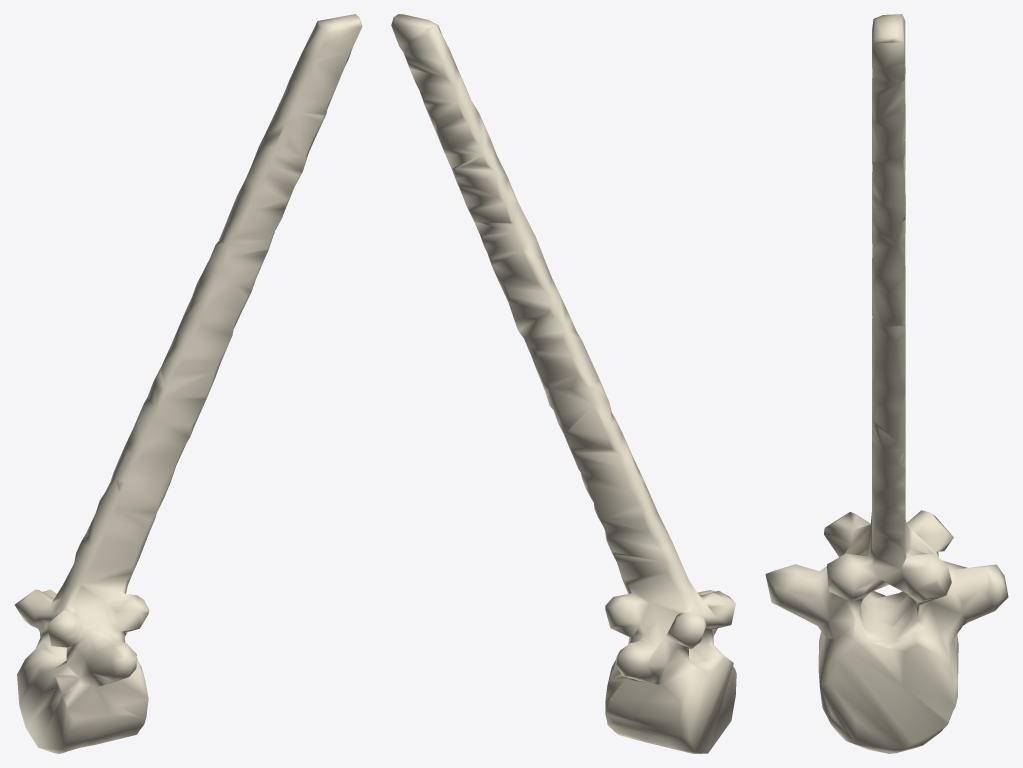
File: thoracic_5.glb
3 views of the same model, side by side, from view 1: azimuth 30°, elevation 25°; view 2: azimuth 150°, elevation 25°; view 3: azimuth 270°, elevation 25° (orthographic). The views are drawn at different scales.
Parts seen in each view (by area): view 1: geometry_0; view 2: geometry_0; view 3: geometry_0.
Part boxes in pixels (x1=…): geometry_0: x1=14, y1=14, x2=362, y2=753; geometry_0: x1=391, y1=14, x2=736, y2=753; geometry_0: x1=765, y1=14, x2=1008, y2=753.
Bounding box in the file's own units: 0.4158 × 0.8022 × 0.2028.
